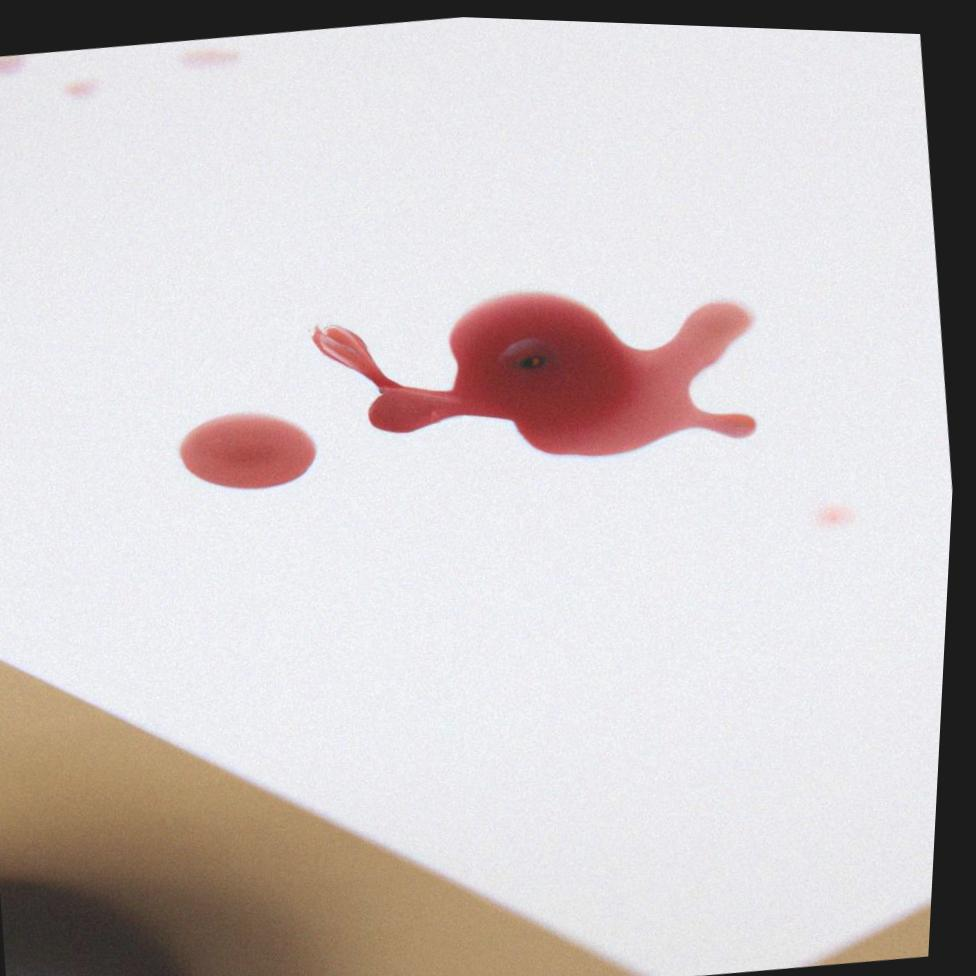Fire: (315, 287, 761, 451), (183, 411, 322, 487)
